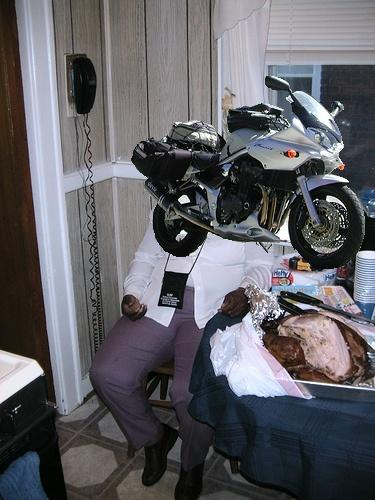tampered: (132, 77, 365, 269)
